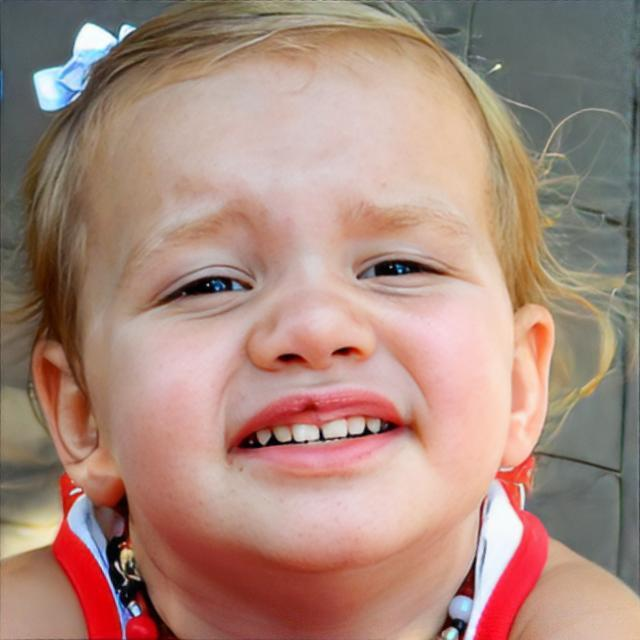disgust: (88, 39, 515, 573)
